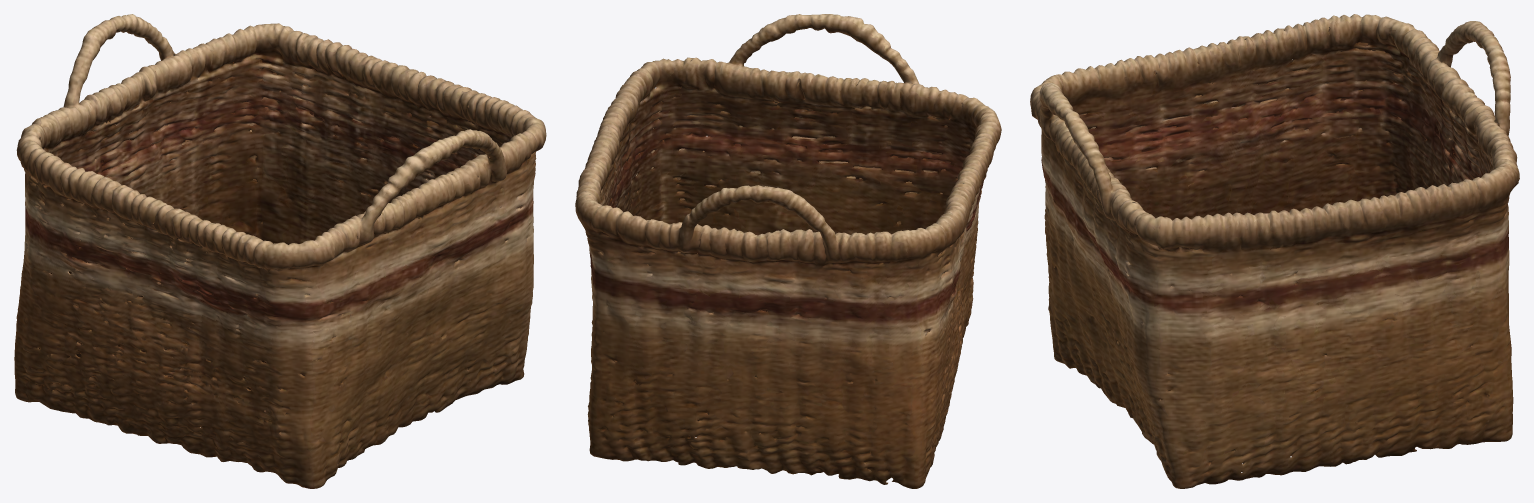
The model's file is basket.glb.
The picture shows the model from 3 angles, left to right: view 1: azimuth 30°, elevation 25°; view 2: azimuth 150°, elevation 25°; view 3: azimuth 270°, elevation 25°; orthographic projection. The views are drawn at different scales.
Visible parts, largest first — view 1: geometry_0; view 2: geometry_0; view 3: geometry_0.
Part boxes in pixels (<box>): geometry_0: <box>14,14,546,488</box>; geometry_0: <box>575,14,1001,488</box>; geometry_0: <box>1030,14,1519,488</box>.
Bounding box in the file's own units: 0.9983 × 0.7174 × 0.967.
Materials: 1 (1 with a texture image).
